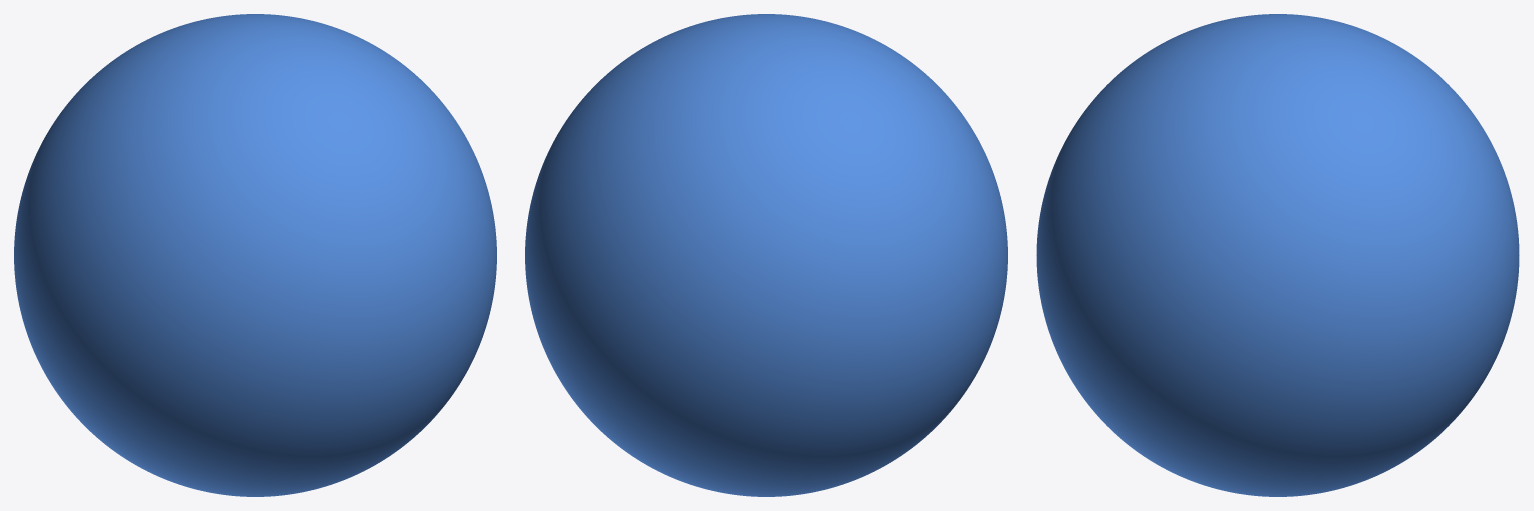
3 views of the same model, side by side, from view 1: azimuth 30°, elevation 25°; view 2: azimuth 150°, elevation 25°; view 3: azimuth 270°, elevation 25° (orthographic).
Visible parts, largest first — view 1: Sphere001; view 2: Sphere001; view 3: Sphere001.
Part boxes in pixels (x1=…): Sphere001: x1=14, y1=14, x2=496, y2=496; Sphere001: x1=525, y1=14, x2=1007, y2=496; Sphere001: x1=1036, y1=14, x2=1519, y2=496.
Size of the model in its own units: 2 by 2 by 2.
